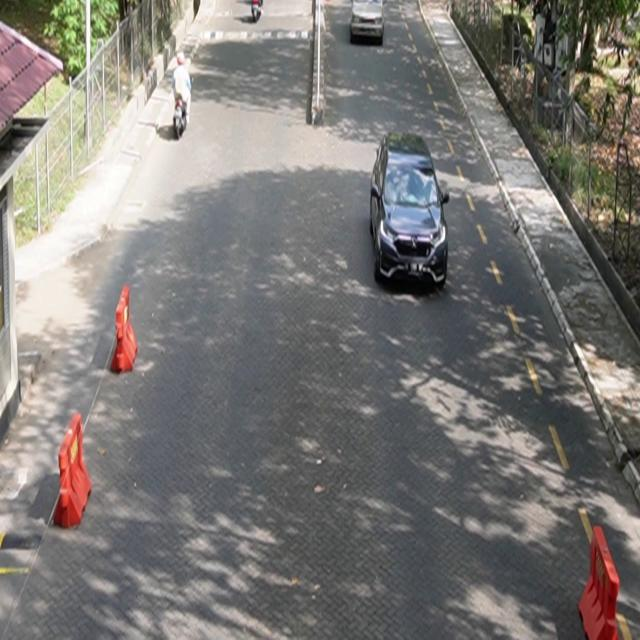car: (371, 131, 451, 288), (351, 1, 385, 45)
